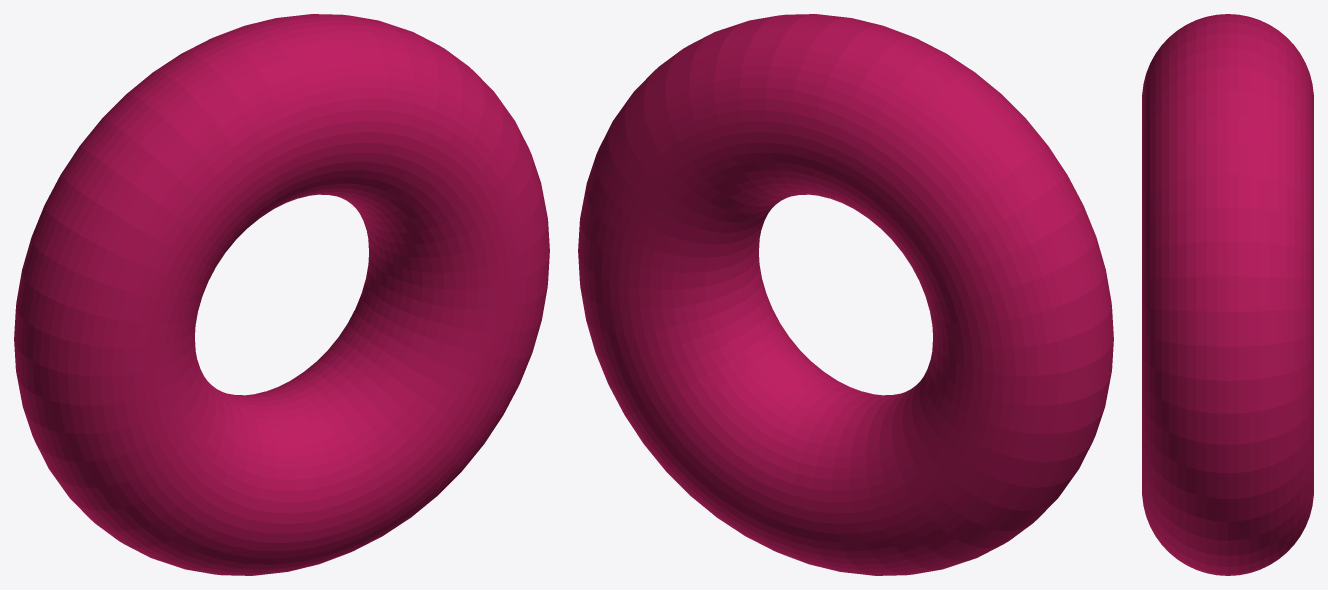
The picture shows the model from 3 angles, left to right: view 1: azimuth 30°, elevation 25°; view 2: azimuth 150°, elevation 25°; view 3: azimuth 270°, elevation 25°; orthographic projection. The views are drawn at different scales.
Visible parts, largest first — view 1: world; view 2: world; view 3: world.
Part boxes in pixels (box(x1,y1,x2,y2)): world: box(14, 14, 549, 575); world: box(578, 14, 1113, 575); world: box(1142, 14, 1313, 575).
Size of the model in its own units: 32.67 by 32.6 by 9.98.
